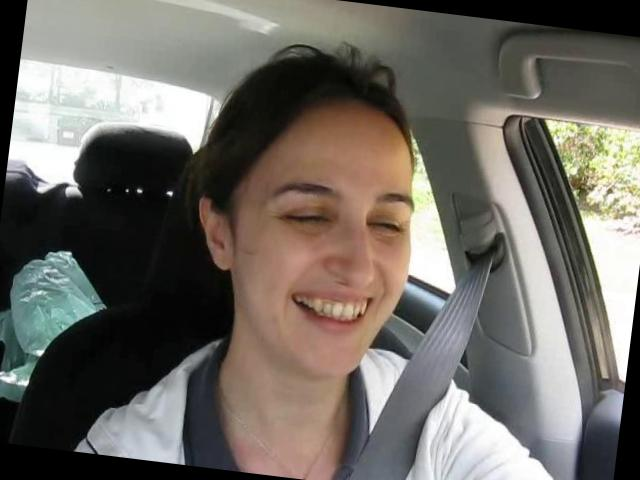eye_closed: (272, 200, 331, 234), (362, 210, 410, 242)
face: (234, 154, 431, 396)
